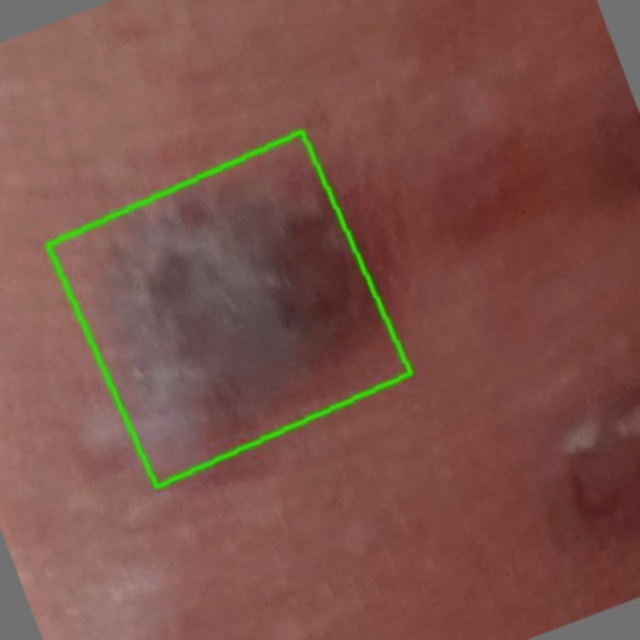Contact Dermatitis: (49, 131, 411, 487)
